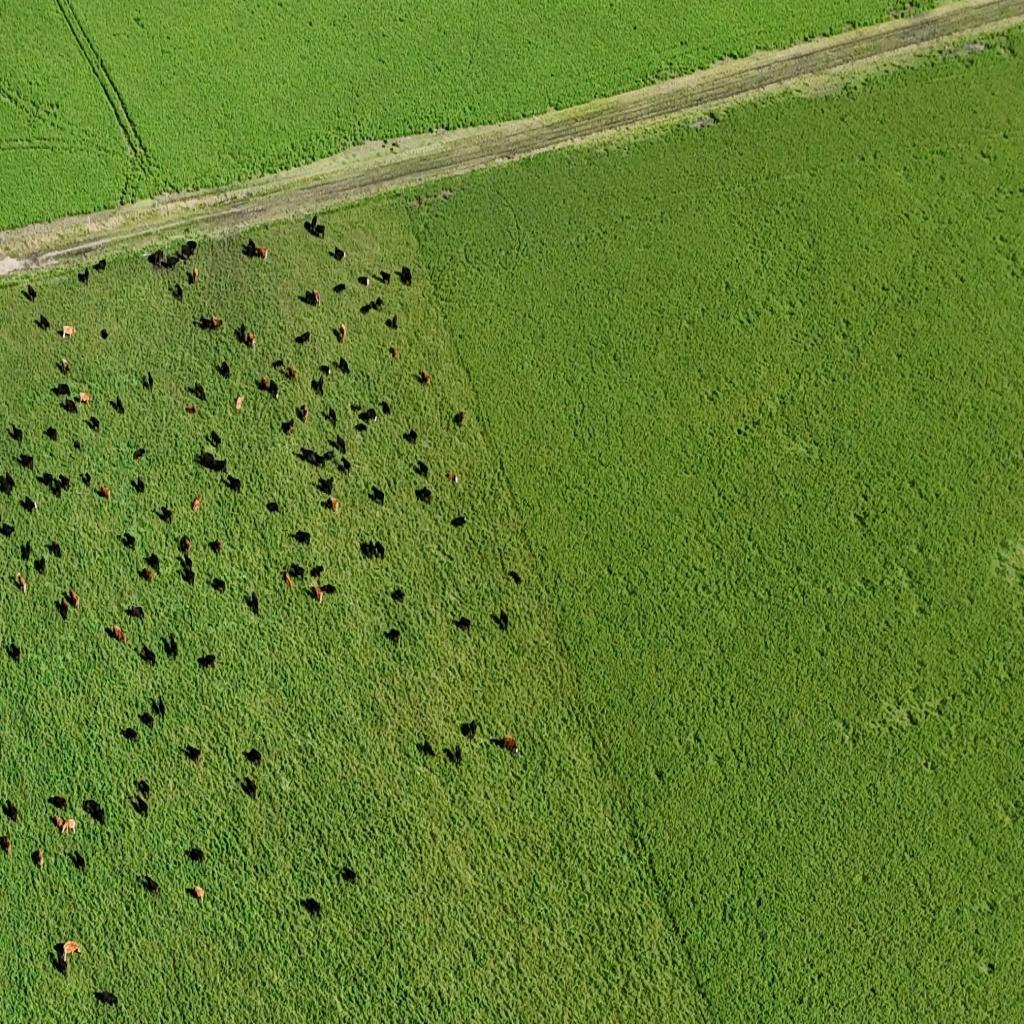cow: (57, 941, 82, 972), (78, 259, 106, 286), (148, 249, 180, 271), (197, 451, 227, 473), (83, 798, 105, 824), (304, 214, 326, 239), (52, 815, 76, 836), (94, 988, 118, 1007), (298, 447, 322, 466), (178, 240, 198, 261), (301, 897, 321, 918), (141, 875, 160, 897), (180, 560, 194, 588), (162, 634, 178, 658), (243, 747, 262, 766), (240, 238, 258, 258), (418, 738, 436, 758), (2, 799, 18, 821), (200, 315, 222, 331), (245, 590, 259, 615), (242, 776, 257, 799), (0, 473, 15, 495), (6, 640, 21, 662), (198, 653, 216, 671), (184, 744, 202, 762), (187, 846, 205, 864), (460, 720, 478, 738), (314, 451, 332, 469), (317, 475, 334, 494), (54, 953, 68, 976), (38, 472, 54, 492), (134, 795, 148, 817), (72, 850, 86, 872), (360, 407, 378, 424), (140, 645, 156, 664), (144, 553, 160, 572), (292, 530, 310, 546), (154, 696, 166, 720), (46, 540, 62, 558), (502, 734, 518, 752), (48, 795, 67, 810), (136, 779, 150, 799), (310, 585, 324, 605), (16, 572, 28, 595), (267, 378, 279, 401), (454, 616, 471, 632), (416, 486, 432, 503), (341, 866, 357, 883), (370, 485, 385, 503), (123, 726, 138, 744), (226, 476, 241, 494), (68, 588, 80, 610), (56, 598, 68, 620), (399, 266, 412, 286), (384, 628, 400, 644), (0, 522, 16, 538), (415, 460, 430, 477), (53, 383, 71, 397), (140, 712, 154, 730), (159, 505, 173, 523), (305, 289, 319, 307), (112, 624, 126, 642), (57, 474, 71, 492), (8, 426, 23, 442), (211, 577, 226, 593), (311, 376, 323, 396), (288, 566, 304, 581), (2, 834, 12, 858), (127, 606, 144, 620), (280, 419, 294, 436), (360, 541, 374, 558), (24, 284, 37, 302), (193, 382, 206, 400), (498, 609, 508, 632), (34, 555, 46, 574), (192, 884, 204, 903), (19, 453, 34, 468), (391, 587, 405, 603), (294, 331, 310, 345), (450, 514, 466, 528), (64, 398, 78, 414), (403, 428, 417, 444), (122, 532, 136, 548), (24, 497, 38, 513), (61, 324, 75, 340), (111, 396, 124, 413), (38, 314, 50, 332), (338, 357, 350, 375), (373, 541, 385, 559), (236, 322, 248, 340), (44, 426, 58, 441), (21, 541, 32, 560), (508, 570, 521, 586), (132, 477, 145, 493), (141, 567, 153, 584), (339, 457, 351, 474), (327, 496, 339, 513), (326, 406, 336, 426), (298, 402, 308, 422), (35, 848, 44, 870), (92, 259, 106, 273), (309, 565, 323, 579), (354, 420, 368, 434), (78, 391, 92, 405), (332, 246, 345, 261), (418, 370, 431, 385), (453, 411, 465, 427), (321, 584, 337, 596), (209, 430, 221, 446), (286, 366, 298, 382), (244, 330, 256, 346), (99, 486, 111, 502), (143, 371, 153, 390), (133, 447, 146, 461), (220, 360, 230, 378), (173, 283, 183, 301), (88, 416, 100, 431), (259, 376, 271, 391), (256, 245, 268, 260), (386, 315, 398, 330), (192, 494, 202, 512), (336, 435, 346, 453), (78, 270, 89, 286), (454, 744, 462, 766), (181, 536, 191, 553), (446, 471, 459, 484), (266, 500, 279, 513), (378, 271, 390, 285), (372, 296, 384, 310), (338, 322, 346, 343), (271, 358, 285, 370), (380, 401, 391, 416), (212, 539, 222, 555), (60, 357, 70, 373), (358, 275, 370, 288), (333, 282, 346, 294), (350, 401, 363, 413), (235, 394, 244, 411), (309, 213, 317, 232), (81, 472, 91, 487), (320, 365, 332, 377), (284, 570, 292, 588), (72, 438, 82, 451), (192, 266, 199, 284), (389, 347, 398, 360), (185, 404, 195, 415), (100, 328, 108, 340)
